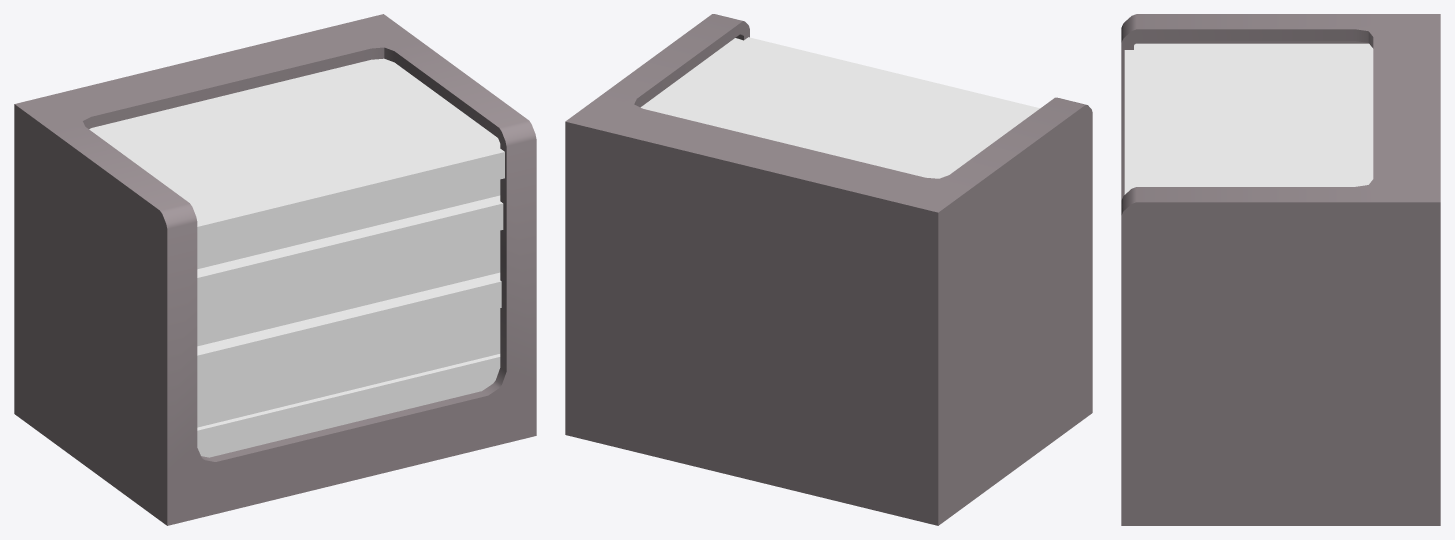
The model's file is SM_tissue_dispenser.fbx.
3 views of the same model, side by side, from view 1: azimuth 30°, elevation 25°; view 2: azimuth 150°, elevation 25°; view 3: azimuth 270°, elevation 25° (orthographic). The views are drawn at different scales.
Parts seen in each view (by area): view 1: tissue_dispenser; view 2: tissue_dispenser; view 3: tissue_dispenser.
Part boxes in pixels (x1,y1,x2,y2): tissue_dispenser: (14,14,536,525); tissue_dispenser: (565,14,1092,525); tissue_dispenser: (1121,14,1440,525).
Size of the model in its own units: 18.76 by 15.05 by 13.45.
